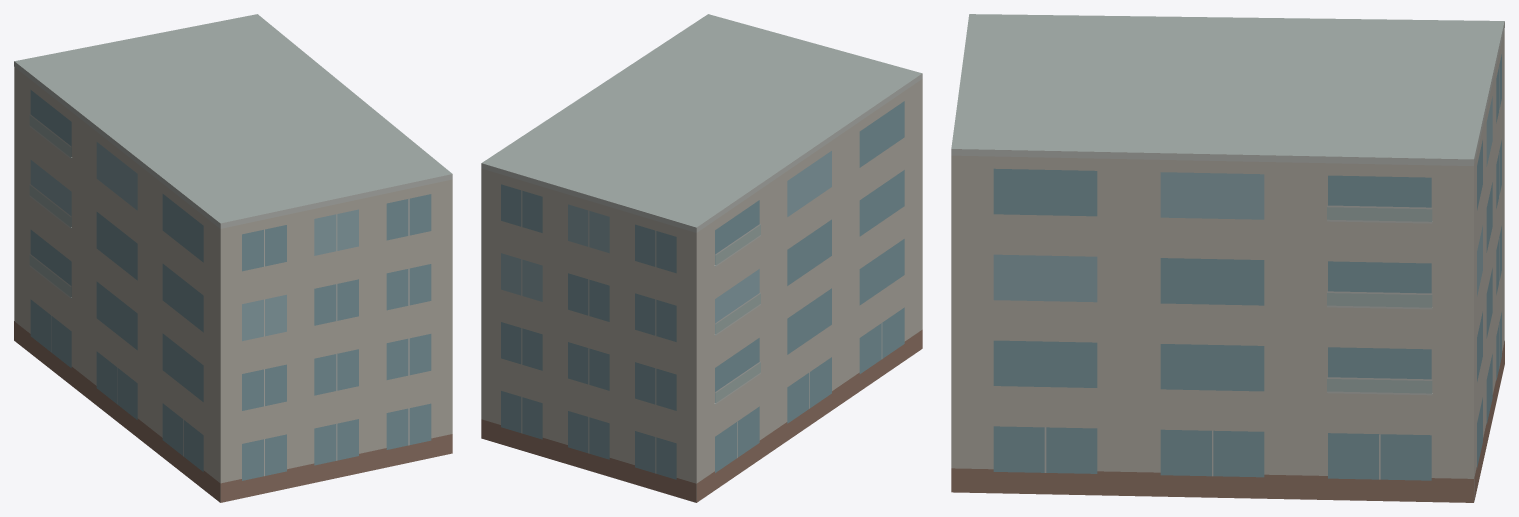
Rendered from survey-upis-32769332.glb.
3 views of the same model, side by side, from view 1: azimuth 30°, elevation 25°; view 2: azimuth 150°, elevation 25°; view 3: azimuth 270°, elevation 25° (orthographic). The views are drawn at different scales.
Visible parts, largest first — view 1: survey-upis-32769332.tmp; view 2: survey-upis-32769332.tmp; view 3: survey-upis-32769332.tmp.
Part boxes in pixels (<box>): survey-upis-32769332.tmp: <box>14,14,452,502</box>; survey-upis-32769332.tmp: <box>481,14,922,502</box>; survey-upis-32769332.tmp: <box>951,14,1504,502</box>.
Bounding box in the file's own units: 11.36 × 12.5 × 18.27.
